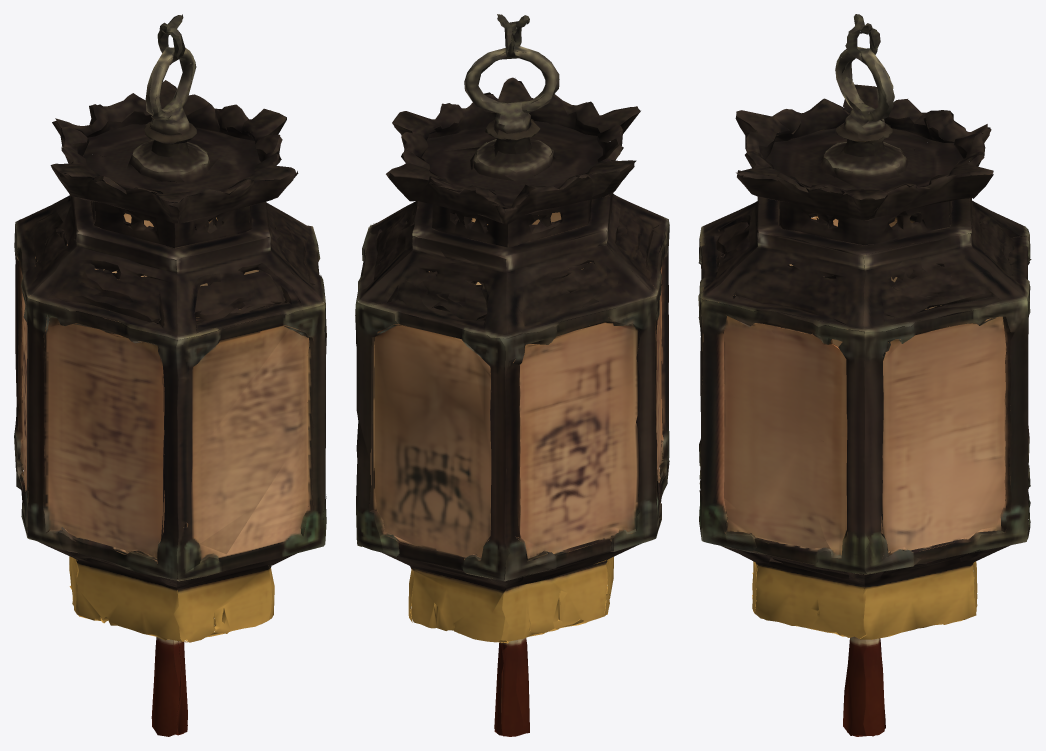
The model's file is ghost-red-lantern-lod.glb.
The picture shows the model from 3 angles, left to right: view 1: azimuth 30°, elevation 25°; view 2: azimuth 150°, elevation 25°; view 3: azimuth 270°, elevation 25°; orthographic projection.
Visible parts, largest first — view 1: ghost-red-lantern_geometry_0; view 2: ghost-red-lantern_geometry_0; view 3: ghost-red-lantern_geometry_0.
Boxes of the visible parts, x1=… form: ghost-red-lantern_geometry_0: x1=14, y1=14, x2=326, y2=736; ghost-red-lantern_geometry_0: x1=355, y1=14, x2=669, y2=736; ghost-red-lantern_geometry_0: x1=698, y1=14, x2=1031, y2=736.
Bounding box in the file's own units: 0.3808 × 0.9013 × 0.382.
Materials: 1 (1 with a texture image).
